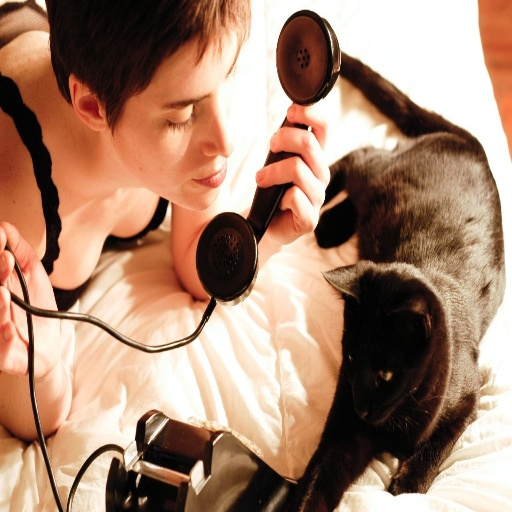hand: (254, 102, 331, 247), (0, 222, 58, 377)
